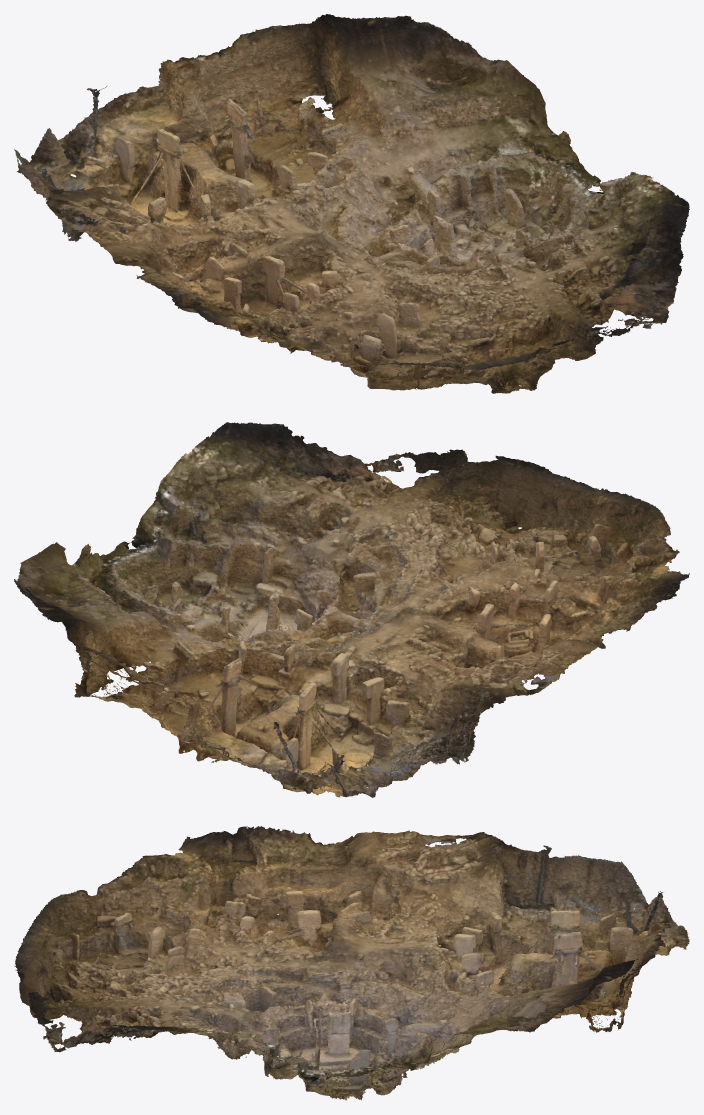
Rendered from gobekli-scan.glb.
The picture shows the model from 3 angles, top to bottom: view 1: azimuth 30°, elevation 25°; view 2: azimuth 150°, elevation 25°; view 3: azimuth 270°, elevation 25°; orthographic projection. The views are drawn at different scales.
Parts seen in each view (by area): view 1: gobekli; view 2: gobekli; view 3: gobekli.
Boxes of the visible parts, x1,y1,x2,y2 form: gobekli: (14, 14, 689, 393); gobekli: (14, 422, 689, 797); gobekli: (14, 826, 689, 1100).
Bounding box in the file's own units: 35.59 × 9.21 × 46.91.
Materials: 1 (1 with a texture image).
